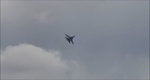maybay_muctieu: (64, 32, 76, 46)
